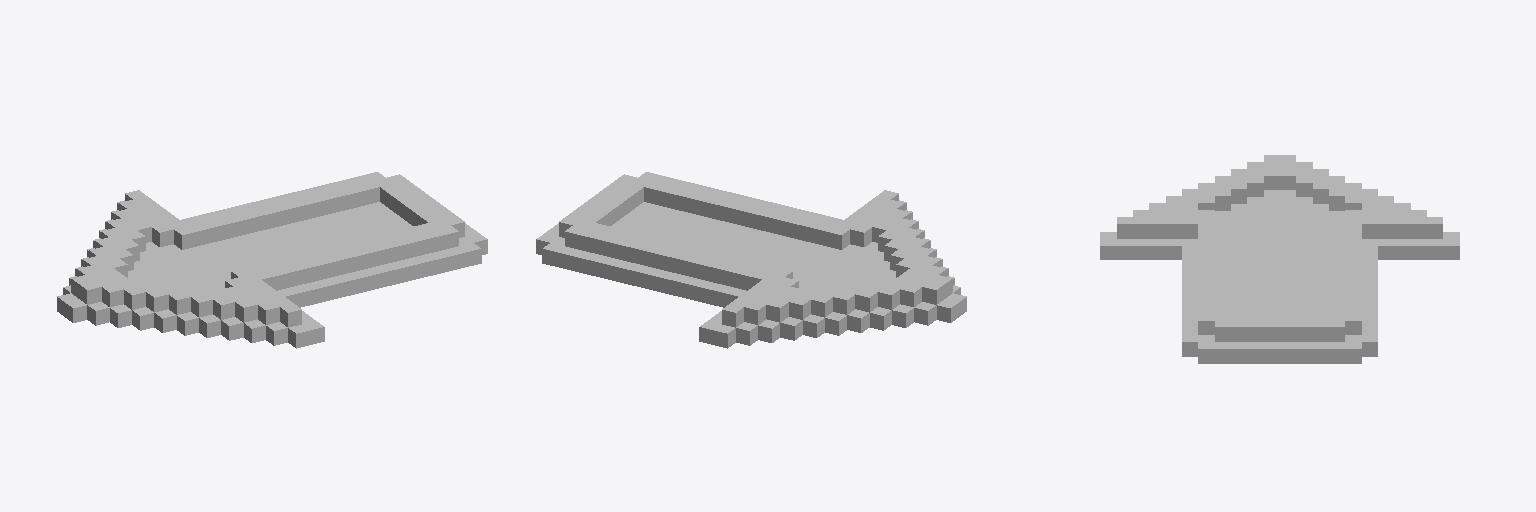
Rendered from arrow.obj.
The picture shows the model from 3 angles: view 1: azimuth 30°, elevation 25°; view 2: azimuth 150°, elevation 25°; view 3: azimuth 270°, elevation 25°; orthographic projection.
Parts seen in each view (by area): view 1: object 1; view 2: object 1; view 3: object 1.
Boxes of the visible parts, x1,y1,x2,y2 form: object 1: [57, 172, 487, 348]; object 1: [536, 172, 966, 348]; object 1: [1100, 155, 1459, 363].
Bounding box in the file's own units: 2.7 × 0.2 × 2.2.